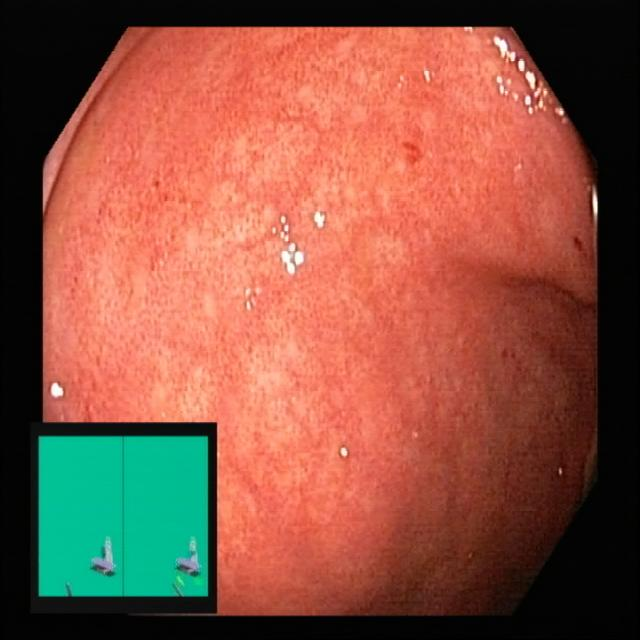ulcerative-colities: (339, 279, 603, 620)
